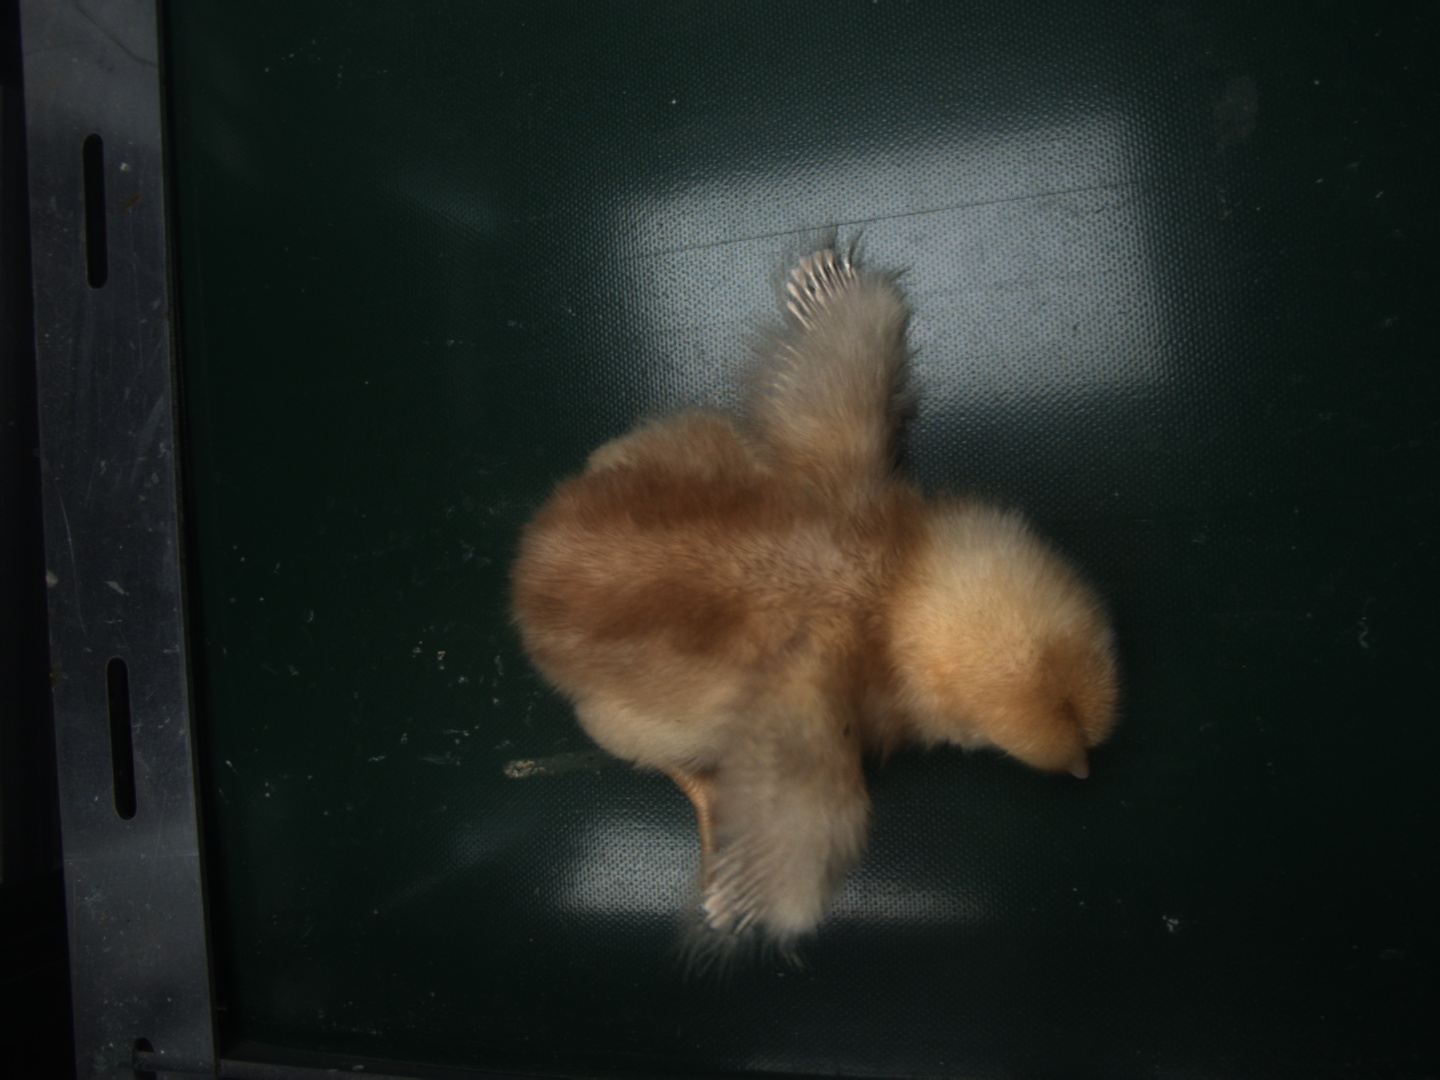female: (782, 247, 859, 329)
